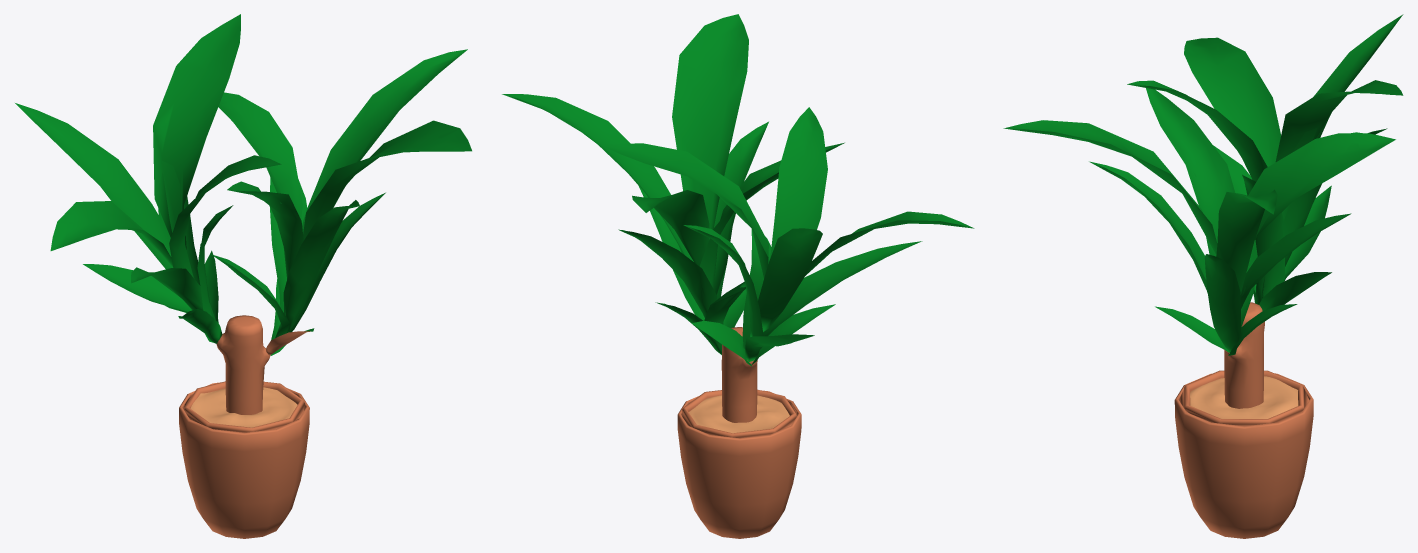
3 renders of one model, left to right at view 1: azimuth 30°, elevation 25°; view 2: azimuth 150°, elevation 25°; view 3: azimuth 270°, elevation 25°, orthographic. The views are drawn at different scales.
Visible parts, largest first — view 1: indoor_plant_02; view 2: indoor_plant_02; view 3: indoor_plant_02.
Part boxes in pixels (x1,y1,x2,y2): indoor_plant_02: (15, 14, 471, 538); indoor_plant_02: (502, 14, 974, 538); indoor_plant_02: (1003, 14, 1403, 538).
Size of the model in its own units: 682 by 622 by 486.
